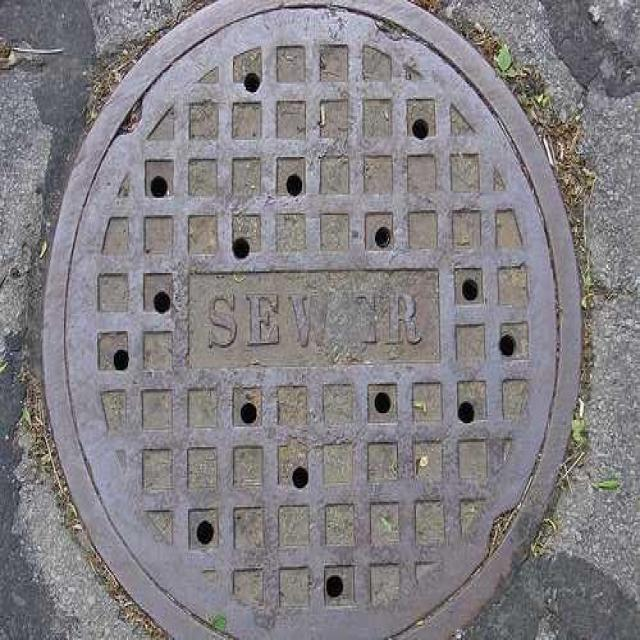manhole: (40, 0, 582, 640)
